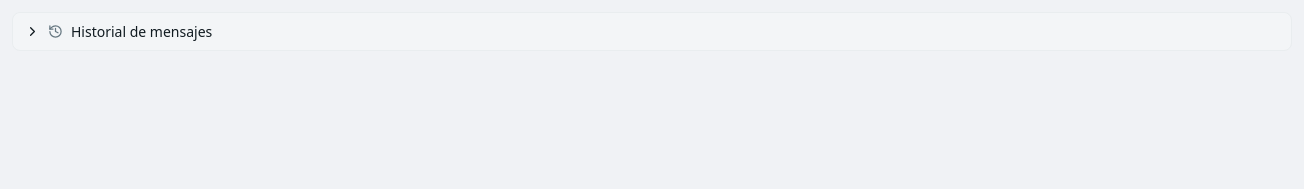
Test case: HistorySection › estado: mensajes guardados, chats recorridos y mensaje más antiguo
Click the button "Historial de mensajes" at point(142, 32), box top-left (13, 13), bottom-right (1291, 50)
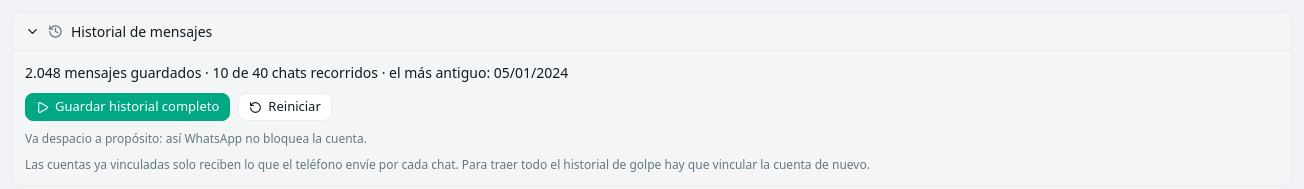
Now the text with test id "history-summary" shows "2.048 mensajes guardados · 10 de 40 chats recorridos · el más antiguo: 05/01/2024", box top-left (25, 63), bottom-right (568, 82)
